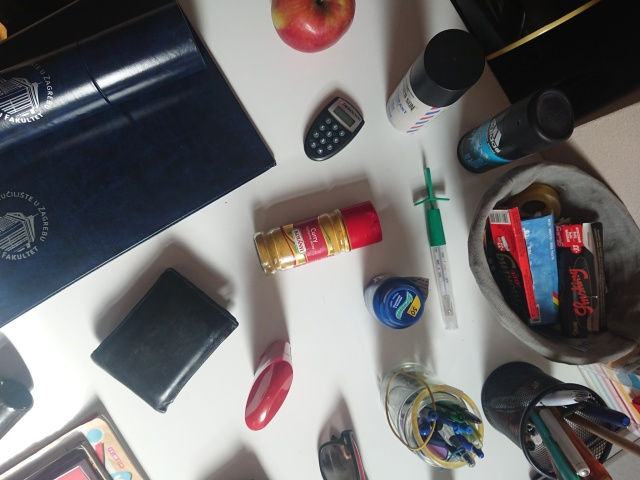Kotanyi Curry Spices Mix 70g: (250, 198, 385, 277)
